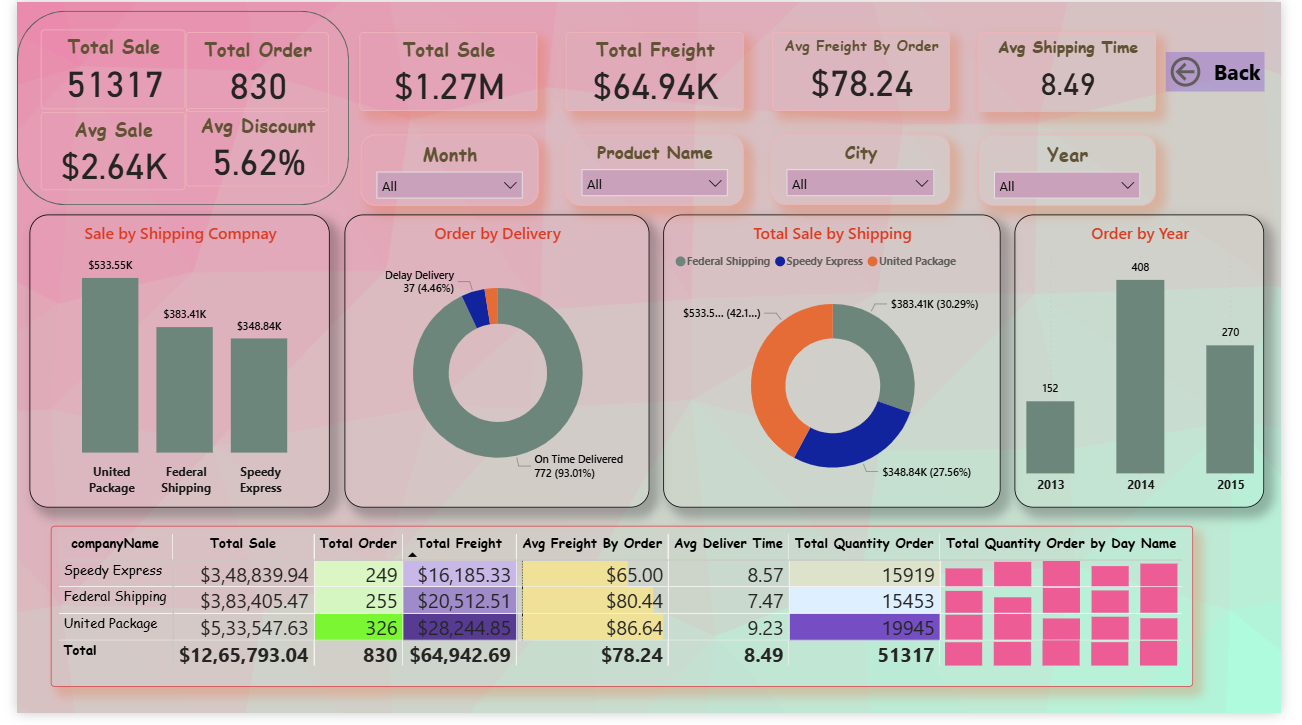

What the dashboard file says about the page in this screenshot:
{"tool":"powerbi","page":{"name":"Shipping Insight","canvas":[1280,720],"ordinal":4},"visuals":[{"type":"group","id":"g1","title":"Group 1","box":[0,8.6,336.3,196.9],"z":0},{"type":"card","title":"Total Order","fields":{"Values":["All Measures.Total Order"]},"box":[171,30.2,145.1,80.5],"z":0,"group":"g1"},{"type":"card","title":"Avg Sale","fields":{"Values":["All Measures.Avg Sale"]},"box":[24.4,110.6,146.6,79],"z":1000,"group":"g1"},{"type":"pieChart","fields":{"Y":["All Measures.Total Sale"],"Series":["shippers.companyName"]},"box":[654.3,215.7,341.4,297.1],"z":1000},{"type":"card","title":"Avg Discount","fields":{"Values":["All Measures.Avg Discount"]},"box":[171,107.8,145.1,79],"z":2000,"group":"g1"},{"type":"slicer","title":"Year","fields":{"Values":["orders.Order_Year"]},"box":[972.9,133.7,179.6,71.9],"z":2000},{"type":"card","title":"Total Sale","fields":{"Values":["All Measures.Total Quantity Order"]},"box":[24.4,27.3,146.6,80.5],"z":3000,"group":"g1"},{"type":"slicer","title":"Month","fields":{"Values":["orders.Month Name"]},"box":[347.8,133.7,179.6,71.9],"z":3000},{"type":"shape","box":[0,8.6,336.3,196.9],"z":4000,"group":"g1"},{"type":"slicer","title":"Product Name","fields":{"Values":["categories.categoryName"]},"box":[555.6,133.7,179.6,71.9],"z":4000},{"type":"slicer","title":"City","fields":{"Values":["customers.city"]},"box":[763.4,133.7,181.4,71.4],"z":5000},{"type":"card","title":"Total Sale","fields":{"Values":["All Measures.Total Sale"]},"box":[347.1,30,180,80],"z":6000},{"type":"clusteredColumnChart","title":"Sale by Shipping Compnay","fields":{"Category":["shippers.companyName"],"Y":["All Measures.Total Sale"]},"box":[12.9,215.7,304.3,297.1],"z":7000},{"type":"pieChart","title":"Order by Delivery ","fields":{"Y":["All Measures.Total Order"],"Category":["orders.Delivery Status"]},"box":[331.4,215.7,308.6,297.1],"z":8000},{"type":"card","title":"Total Freight","fields":{"Values":["All Measures.Total Freight"]},"box":[555.7,30,180,80],"z":9000},{"type":"card","title":"Avg Freight By Order","fields":{"Values":["All Measures.Avg Freight By Order"]},"box":[764.3,30,180,80],"z":10000},{"type":"pivotTable","fields":{"Rows":["shippers.companyName"],"Values":["All Measures.Total Sale","All Measures.Total Order","All Measures.Total Freight","All Measures.Avg Freight By Order","All Measures.Avg Deliver Time","All Measures.Total Quantity Order","SparklineData(All Measures.Total Quantity Order_[orders.Day Name])"]},"box":[34.3,530,1157.1,162.9],"z":11000},{"type":"card","title":"Avg Shipping Time","fields":{"Values":["All Measures.Avg Deliver Time"]},"box":[972.9,30,180,80.5],"z":12000},{"type":"columnChart","title":"Order by Year","fields":{"Category":["orders.Order_Year"],"Y":["All Measures.Total Order"]},"box":[1010,215.7,252.9,297.1],"z":13000},{"type":"actionButton","box":[1162.9,50,100,40],"z":14000}]}

Visuals, with their boxes in screenshot pixels (x1, y1, x2, y2), scaled from the page's 1280x720 canvas onto the 1302x725 screenshot:
"Group 1" group: {"left": 0, "top": 9, "right": 342, "bottom": 207}
"Total Order" card: {"left": 174, "top": 30, "right": 322, "bottom": 111}
"Avg Sale" card: {"left": 25, "top": 111, "right": 174, "bottom": 191}
pieChart - All Measures.Total Sale x shippers.companyName: {"left": 666, "top": 217, "right": 1013, "bottom": 516}
"Avg Discount" card: {"left": 174, "top": 109, "right": 322, "bottom": 188}
"Year" slicer: {"left": 990, "top": 135, "right": 1172, "bottom": 207}
"Total Sale" card: {"left": 25, "top": 27, "right": 174, "bottom": 109}
"Month" slicer: {"left": 354, "top": 135, "right": 536, "bottom": 207}
shape: {"left": 0, "top": 9, "right": 342, "bottom": 207}
"Product Name" slicer: {"left": 565, "top": 135, "right": 748, "bottom": 207}
"City" slicer: {"left": 777, "top": 135, "right": 961, "bottom": 207}
"Total Sale" card: {"left": 353, "top": 30, "right": 536, "bottom": 111}
"Sale by Shipping Compnay" clusteredColumnChart: {"left": 13, "top": 217, "right": 323, "bottom": 516}
"Order by Delivery " pieChart: {"left": 337, "top": 217, "right": 651, "bottom": 516}
"Total Freight" card: {"left": 565, "top": 30, "right": 748, "bottom": 111}
"Avg Freight By Order" card: {"left": 777, "top": 30, "right": 961, "bottom": 111}
pivotTable - shippers.companyName x All Measures.Total Sale: {"left": 35, "top": 534, "right": 1212, "bottom": 698}
"Avg Shipping Time" card: {"left": 990, "top": 30, "right": 1173, "bottom": 111}
"Order by Year" columnChart: {"left": 1027, "top": 217, "right": 1285, "bottom": 516}
actionButton: {"left": 1183, "top": 50, "right": 1285, "bottom": 91}
